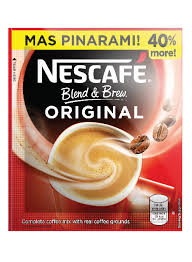nescafe-classic/gold-small: (7, 26, 180, 226)
